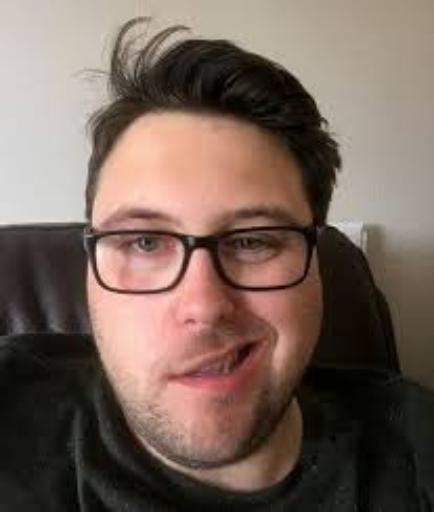left_eye: (228, 235, 286, 258)
left_lip_corner: (250, 335, 269, 355)
right_eye: (121, 234, 178, 258)
right_lip_corner: (160, 366, 186, 389)
